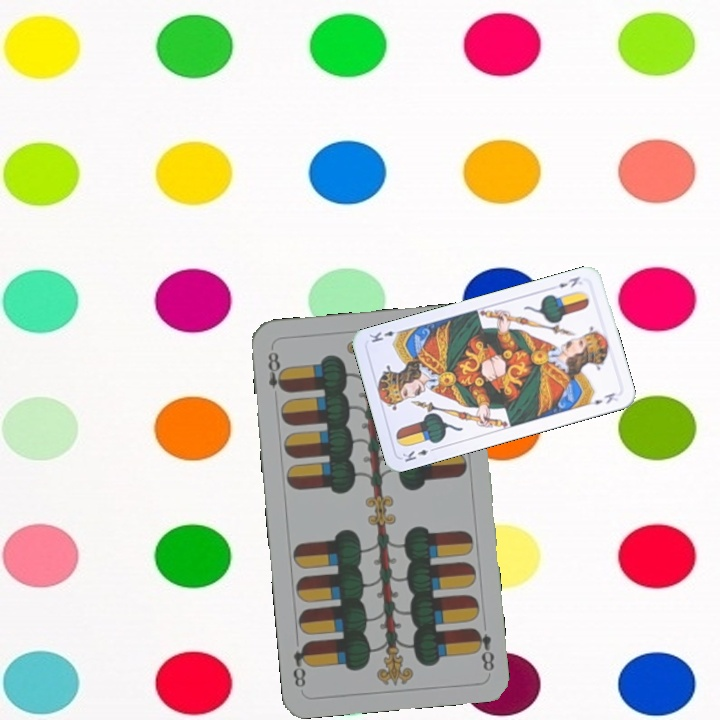E8: (469, 624, 497, 674), (264, 347, 288, 395)
EK: (398, 443, 439, 465), (554, 272, 582, 290)
